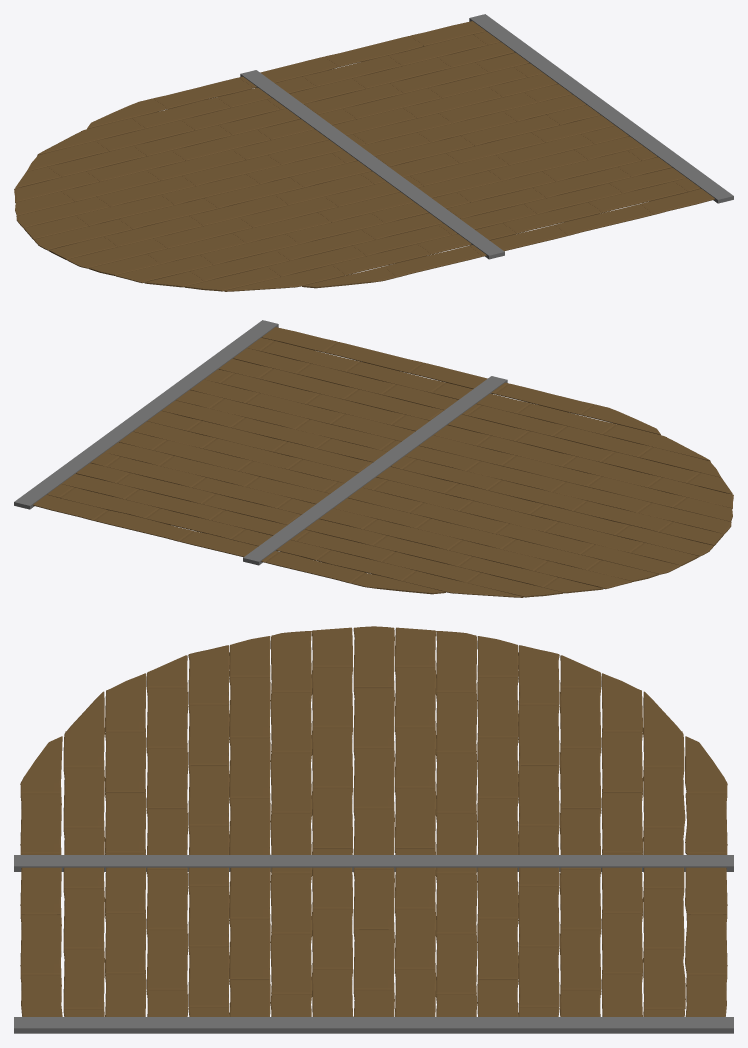
Rendered from Suelo.fbx.
3 renders of one model, top to bottom at view 1: azimuth 30°, elevation 25°; view 2: azimuth 150°, elevation 25°; view 3: azimuth 270°, elevation 25°, orthographic. The views are drawn at different scales.
Parts seen in each view (by area): view 1: Suelo_Barco; view 2: Suelo_Barco; view 3: Suelo_Barco.
Boxes of the visible parts, bbox=[...] form: Suelo_Barco: bbox=[14, 14, 733, 291]; Suelo_Barco: bbox=[14, 320, 733, 597]; Suelo_Barco: bbox=[14, 626, 733, 1033].
Bounding box in the file's own units: 13.02 × 0.0818 × 9.82.
